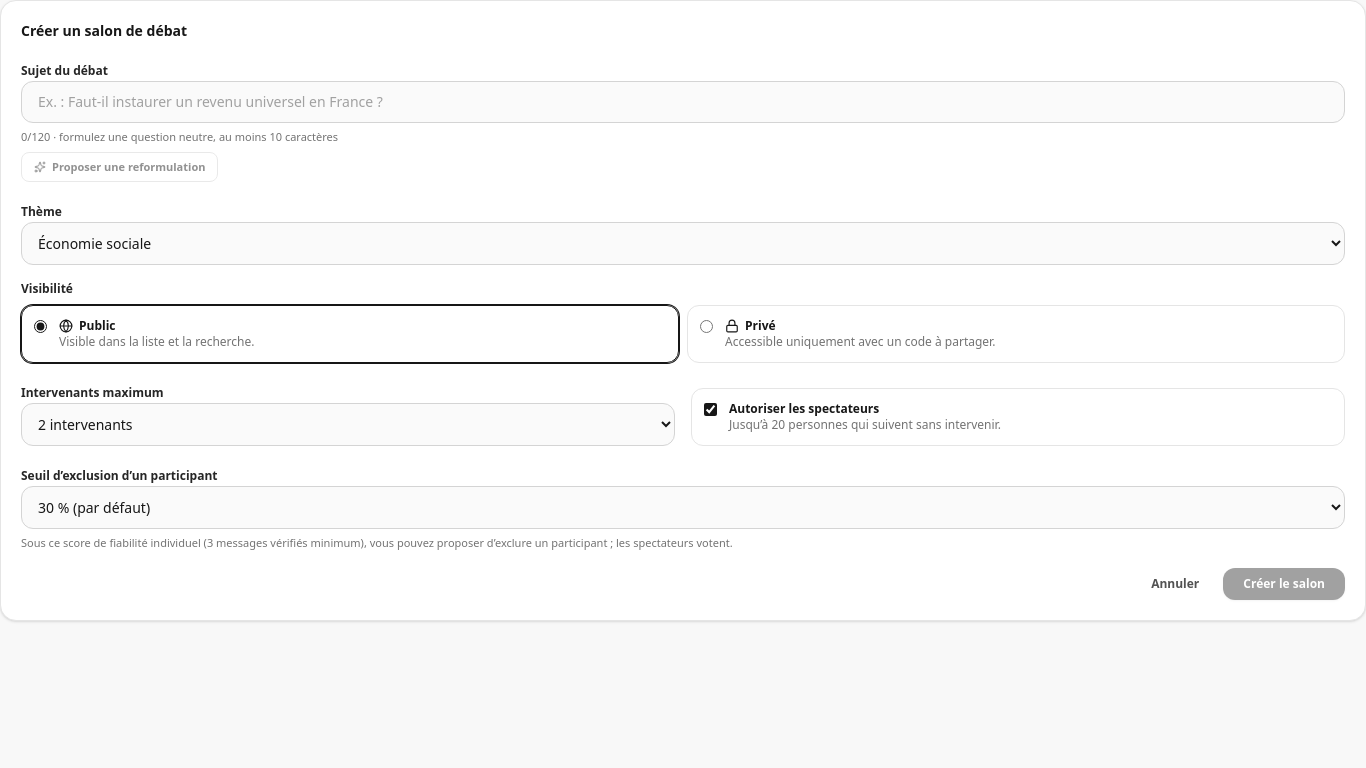
Test case: CreateRoomForm : reformulation par l’IA › « Garder mon titre » ferme la proposition et conserve la saisie
Type "smic 1700 il faut" into the field labelled "Sujet du débat" at (683, 102), box [21, 81, 1345, 123]
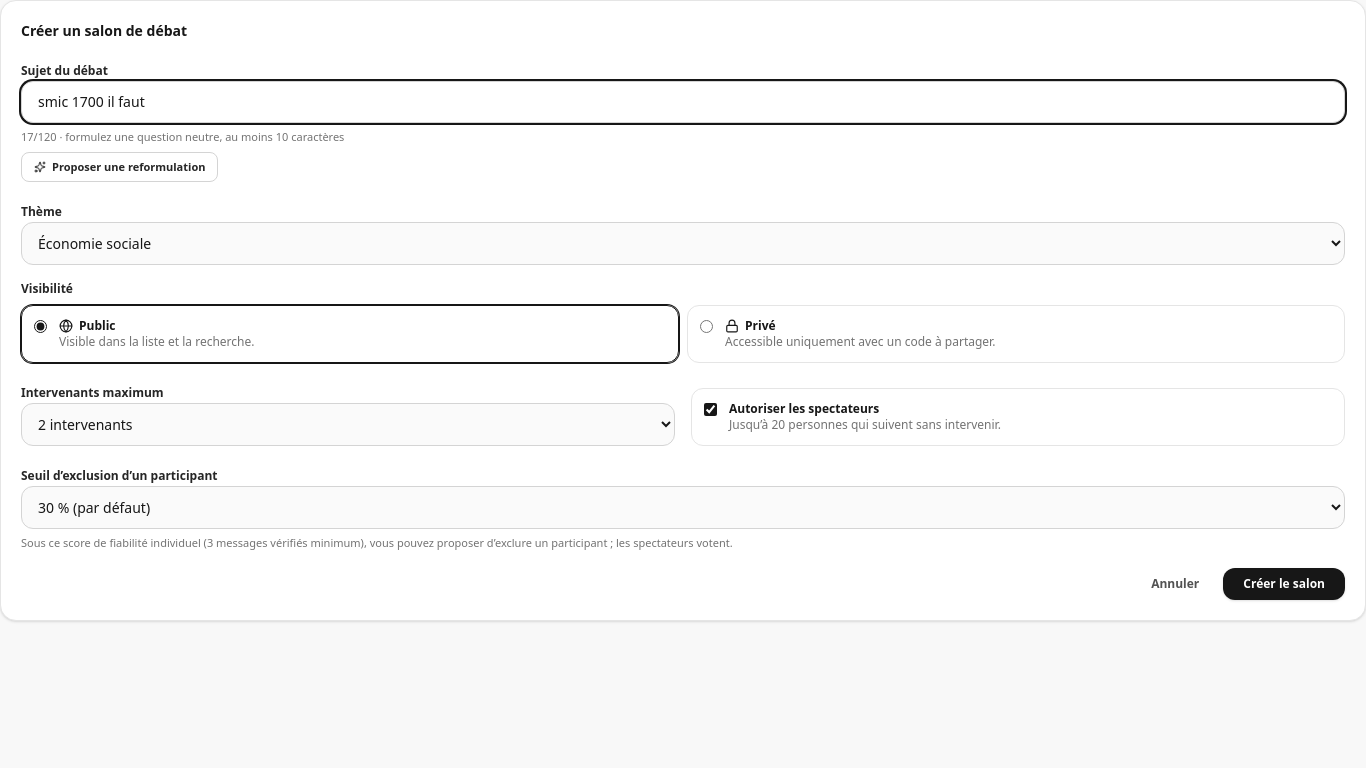
Click the button "Proposer une reformulation" at (120, 167), box [21, 152, 218, 182]
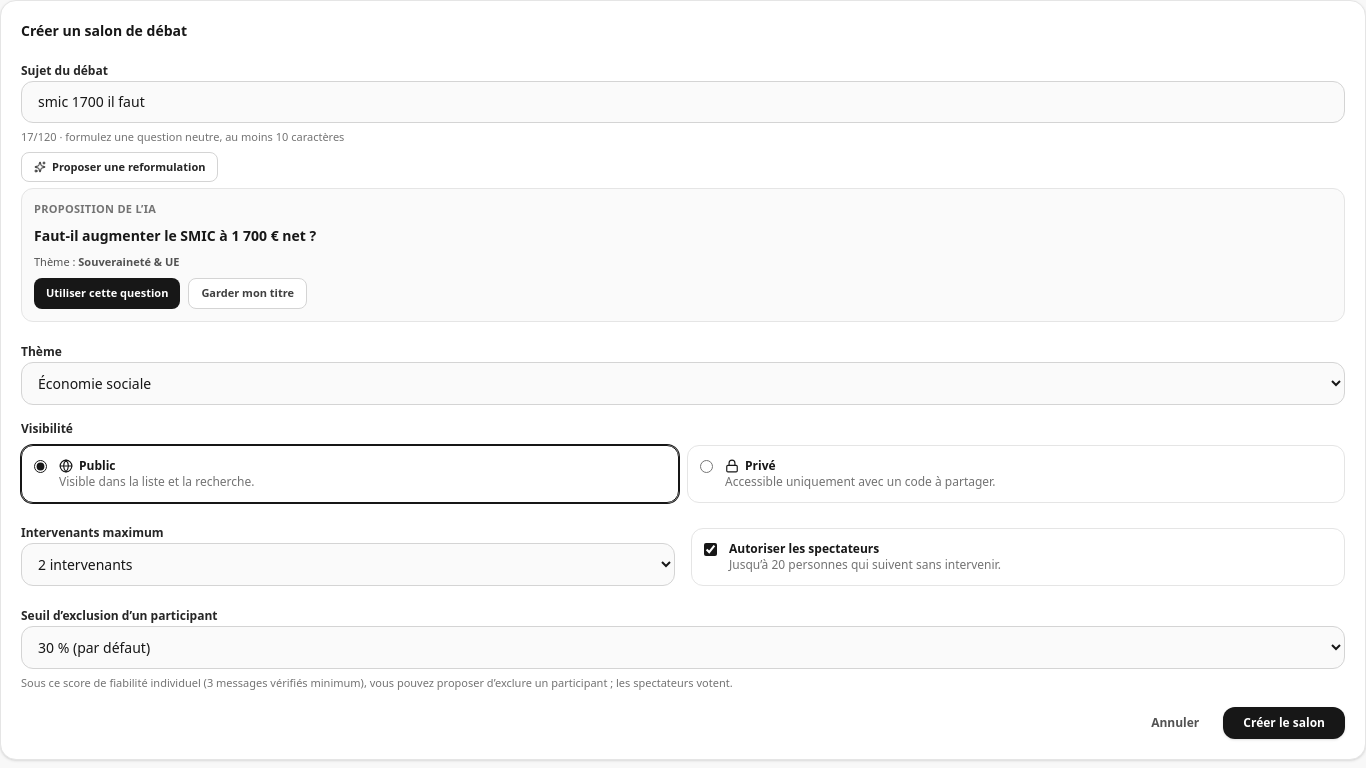
Click the button "Garder mon titre" at (248, 293), box [188, 278, 307, 308]
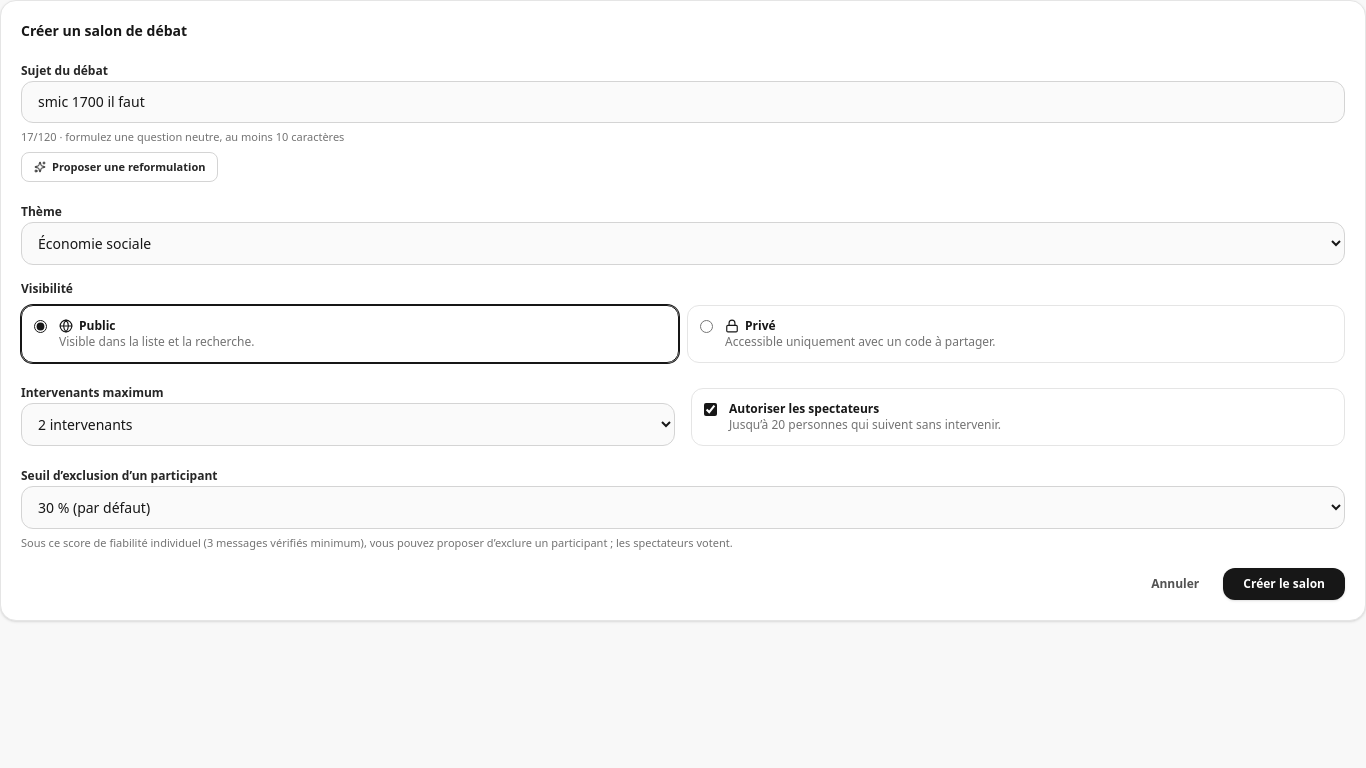
Now the text "Faut-il augmenter le SMIC à 1 700 € net ?" is gone
